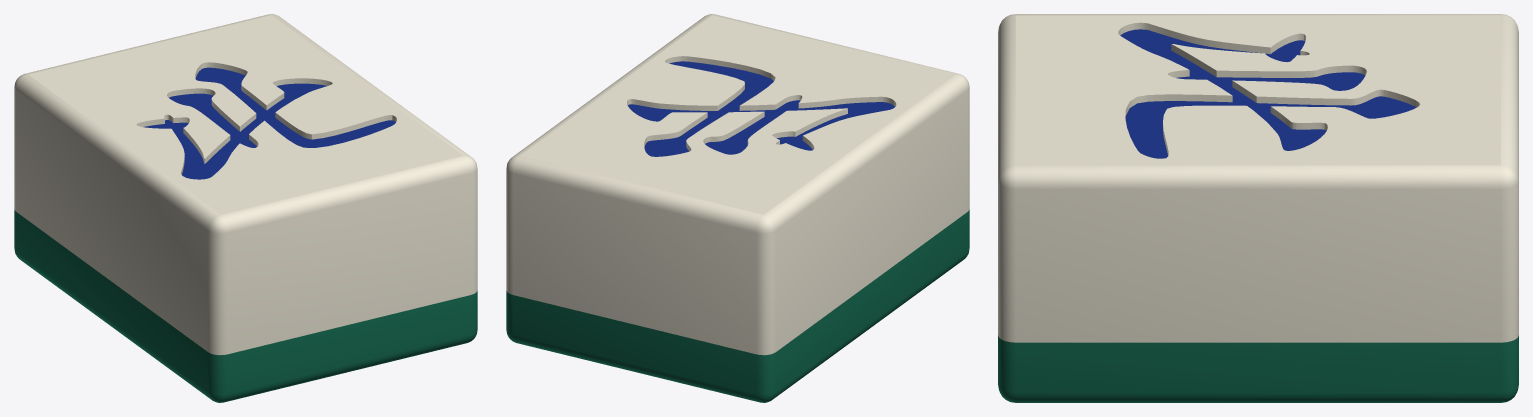
The model's file is Pei.glb.
3 views of the same model, side by side, from view 1: azimuth 30°, elevation 25°; view 2: azimuth 150°, elevation 25°; view 3: azimuth 270°, elevation 25° (orthographic). The views are drawn at different scales.
Parts seen in each view (by area): view 1: Pei_body, Pei_inset; view 2: Pei_body, Pei_inset; view 3: Pei_body, Pei_inset.
Part boxes in pixels (box(x1,y1,x2,y2)): Pei_body: box(14, 14, 477, 402); Pei_inset: box(143, 67, 395, 179); Pei_body: box(506, 14, 969, 402); Pei_inset: box(627, 61, 894, 156); Pei_body: box(998, 14, 1518, 402); Pei_inset: box(1120, 29, 1416, 158).
Bounding box in the file's own units: 0.024 × 0.016 × 0.032.
